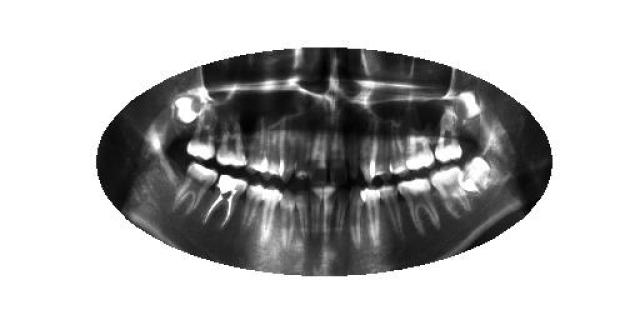Implant: (202, 175, 248, 229)
Restorations: (457, 155, 495, 196)
